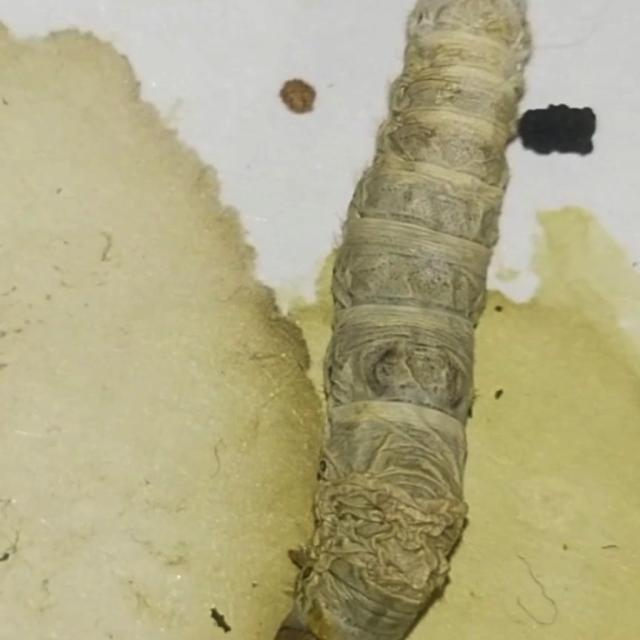Grasserie: (259, 2, 584, 640)
